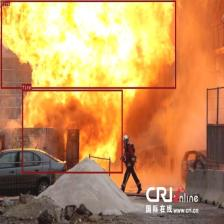fire: (0, 0, 176, 89), (22, 90, 123, 173)
